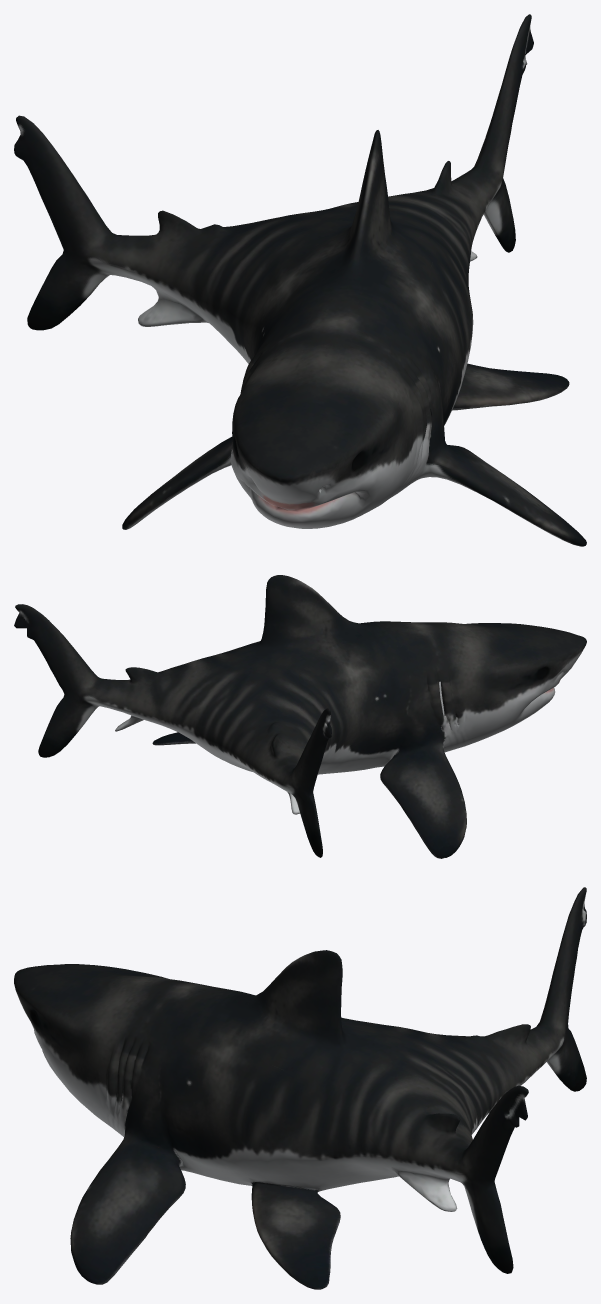
Rendered from great-white-shark.glb.
3 views of the same model, one above another, from view 1: azimuth 30°, elevation 25°; view 2: azimuth 150°, elevation 25°; view 3: azimuth 270°, elevation 25° (orthographic). The views are drawn at different scales.
Parts seen in each view (by area): view 1: world; view 2: world; view 3: world.
Part boxes in pixels (x1,y1,x2,y2): world: (14, 14, 586, 546); world: (14, 575, 586, 858); world: (14, 887, 586, 1289).
Bounding box in the file's own units: 0.9854 × 0.59 × 1.
1 material, 1 textured.
